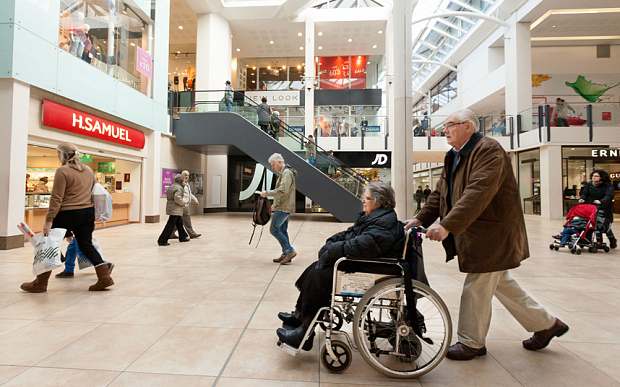Age_30_40: (266, 155, 287, 173), (590, 170, 605, 185)
Age_above_50: (441, 111, 477, 146), (361, 185, 396, 210)
E_White: (441, 111, 477, 146), (361, 185, 396, 210), (266, 155, 287, 173), (590, 170, 605, 185)
Emotion_Neutral: (441, 111, 477, 146), (361, 185, 396, 210), (266, 155, 287, 173), (590, 170, 605, 185)
G_ Female: (361, 185, 396, 210)
G_Male: (441, 111, 477, 146), (266, 155, 287, 173), (590, 170, 605, 185)
Not_Face: (55, 143, 80, 163), (175, 173, 186, 183), (260, 97, 268, 104), (225, 80, 233, 86), (307, 134, 314, 140)
